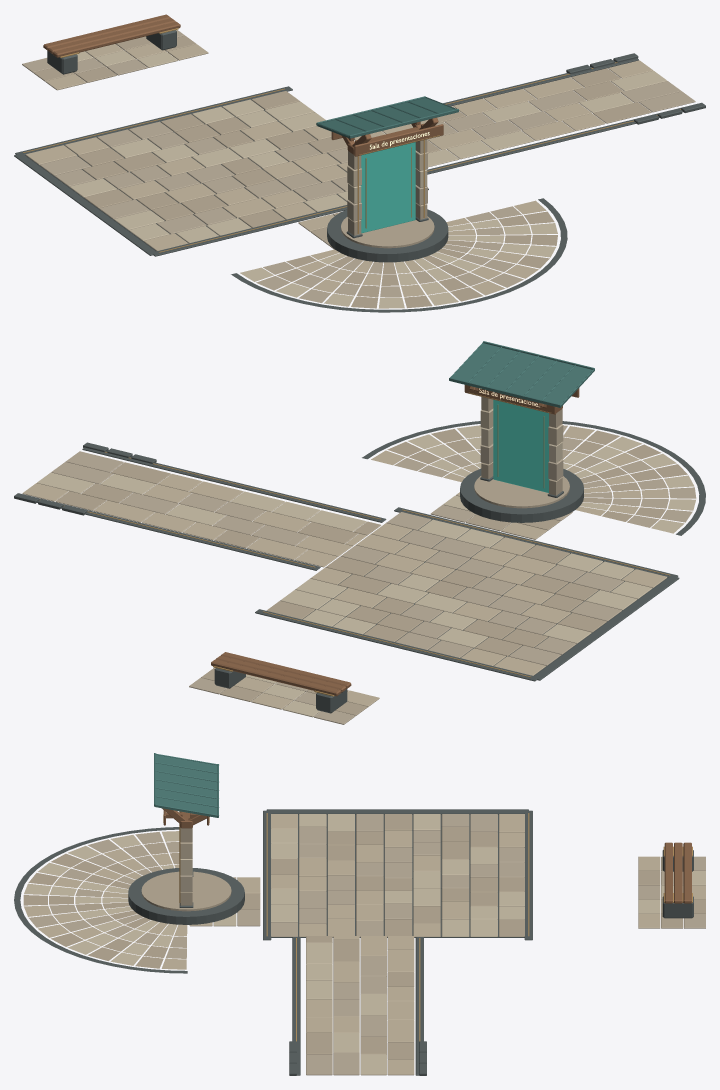
The model's file is gallery-island.glb.
The picture shows the model from 3 angles, top to bottom: view 1: azimuth 30°, elevation 25°; view 2: azimuth 150°, elevation 25°; view 3: azimuth 270°, elevation 25°; orthographic projection. The views are drawn at different scales.
Visible parts, largest first — view 1: West gallery island pavilion and limestone approach; view 2: West gallery island pavilion and limestone approach; view 3: West gallery island pavilion and limestone approach.
Part boxes in pixels (x1,y1,x2,y2): West gallery island pavilion and limestone approach: (14,14,705,312); West gallery island pavilion and limestone approach: (14,341,705,724); West gallery island pavilion and limestone approach: (14,753,705,1075).
Size of the model in its own units: 11.35 by 2.47 by 12.45.
